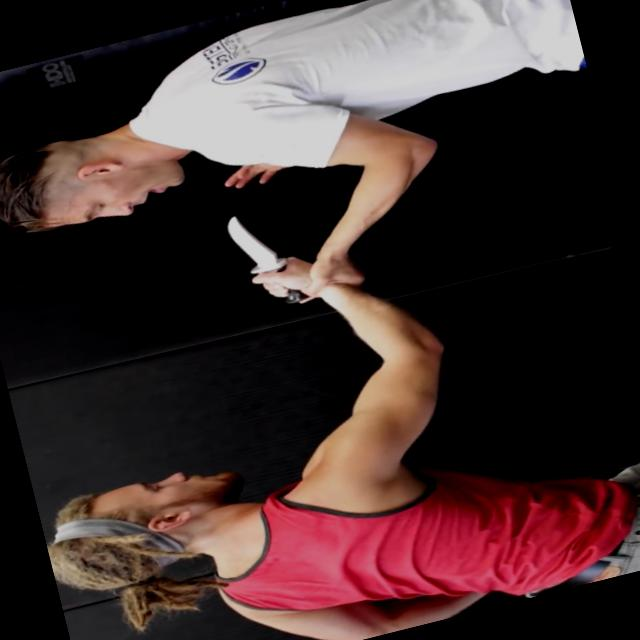knife: (208, 194, 314, 323)
